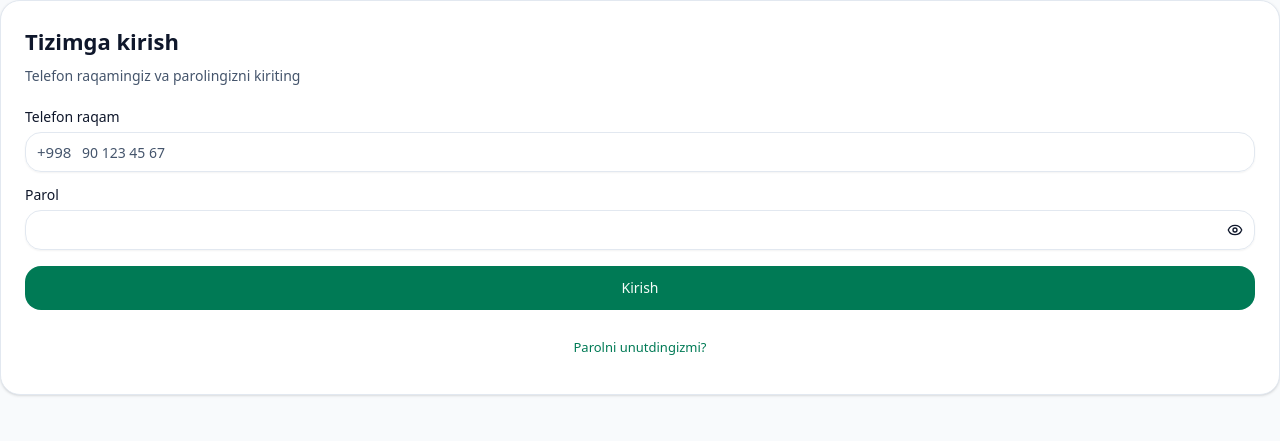
Scenario: LoginPage › telefon to'liq kiritilmasa xato ko'rsatadi
Type "90123" into the field labelled "Telefon raqam" at (640, 152), box [25, 132, 1255, 172]
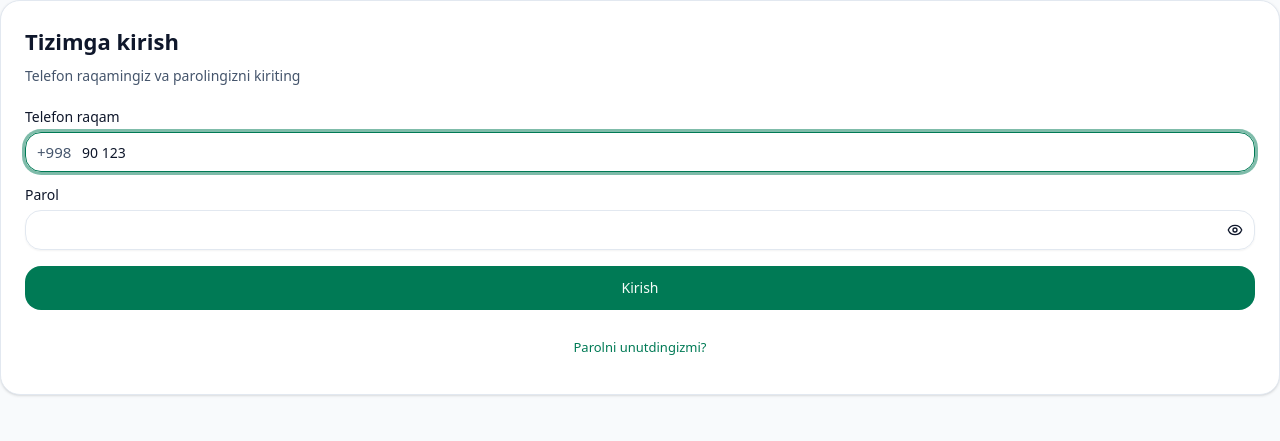
Type "parol123" into the password field labelled "Parol" at (640, 230), box [25, 210, 1255, 250]
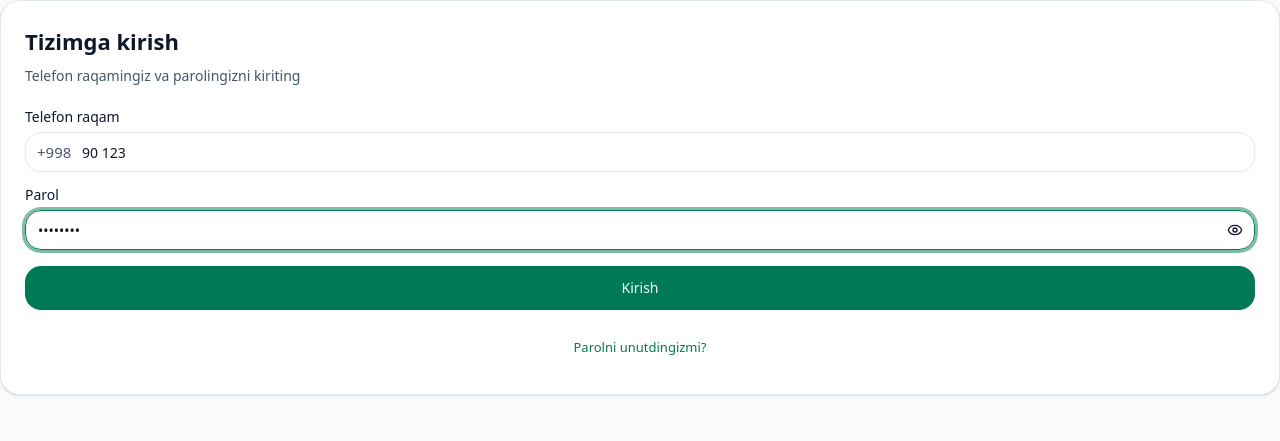
Click the button "Kirish" at (640, 288), box [25, 266, 1255, 310]
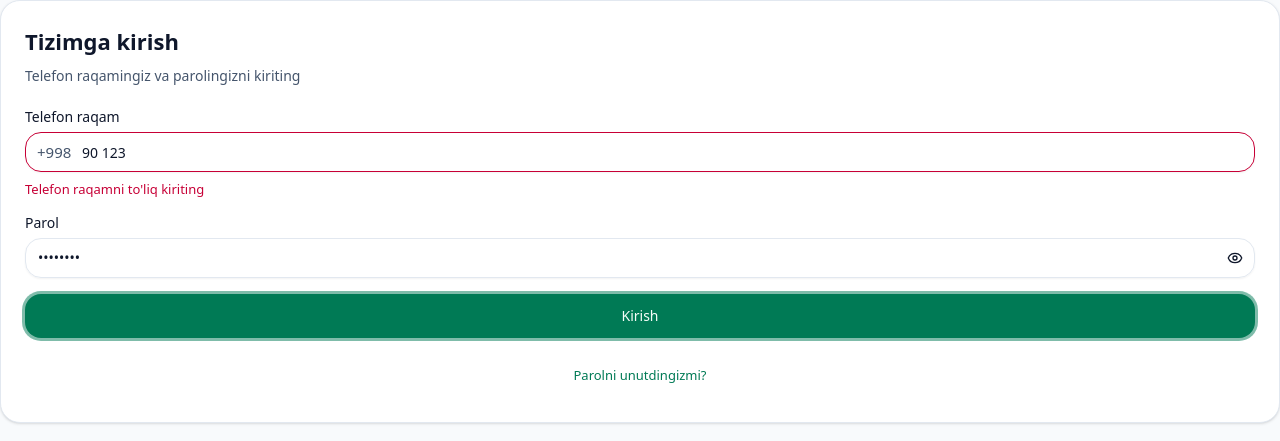
expect the text "Telefon raqamni to'liq kiriting" is shown: met, box [25, 180, 204, 198]
